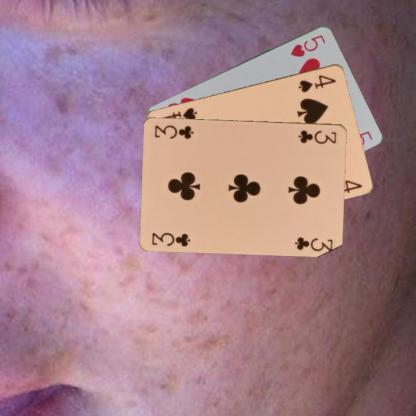3c: (295, 127, 338, 145), (150, 230, 192, 248)
4s: (296, 72, 337, 93)
5h: (288, 32, 327, 58)
